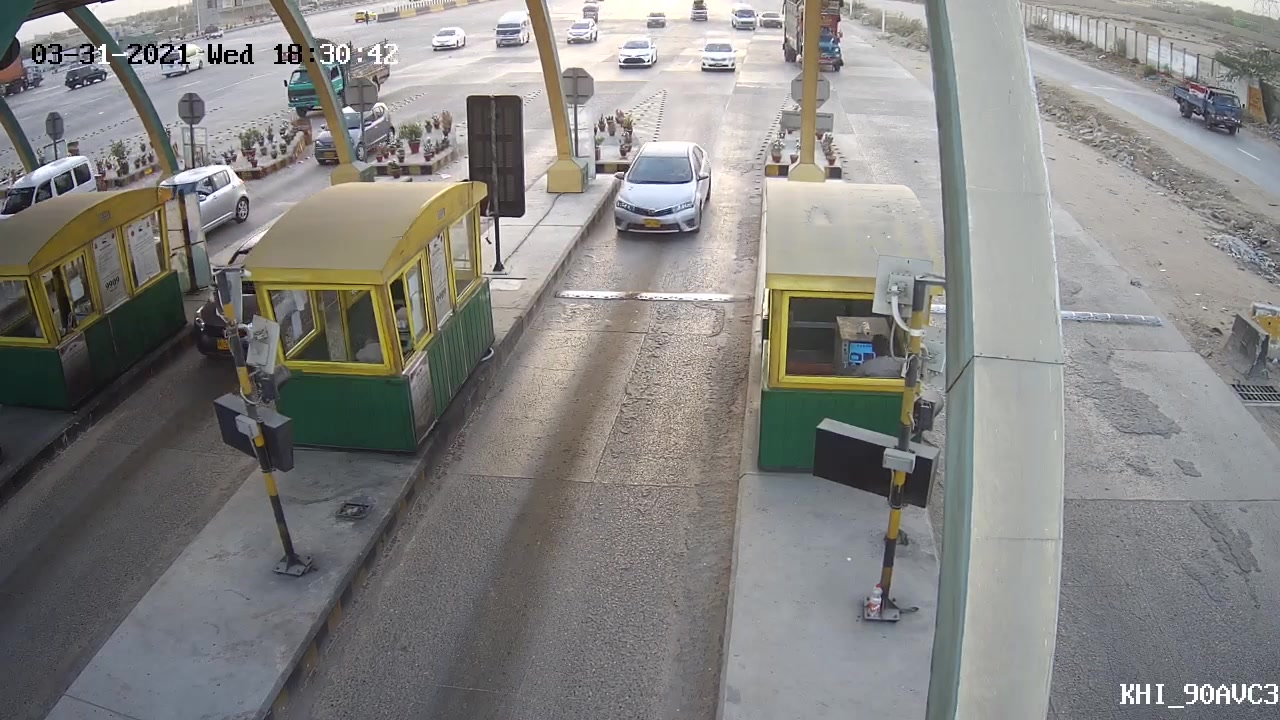F1: (601, 134, 716, 246)
